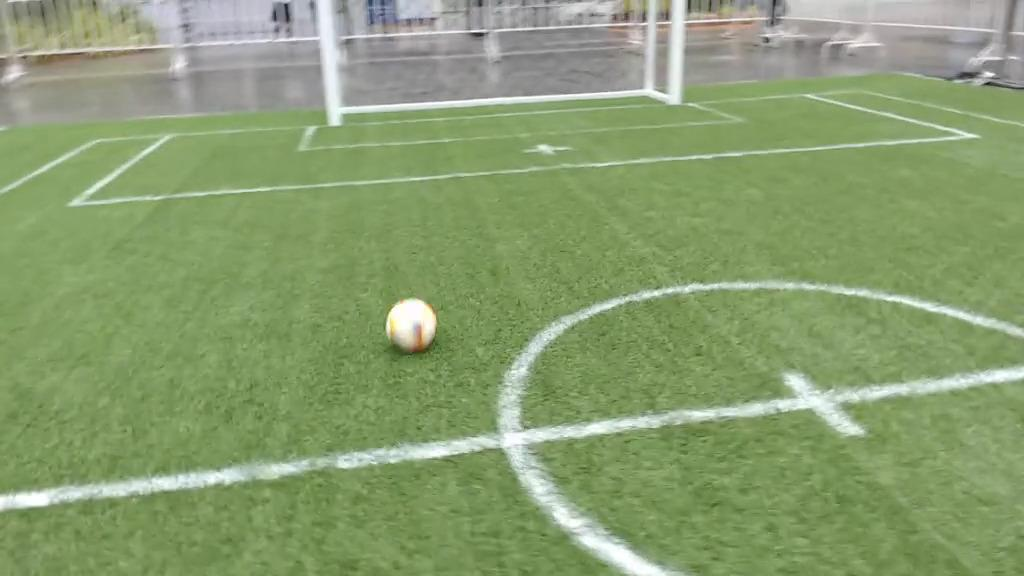ball: (386, 299, 435, 354)
